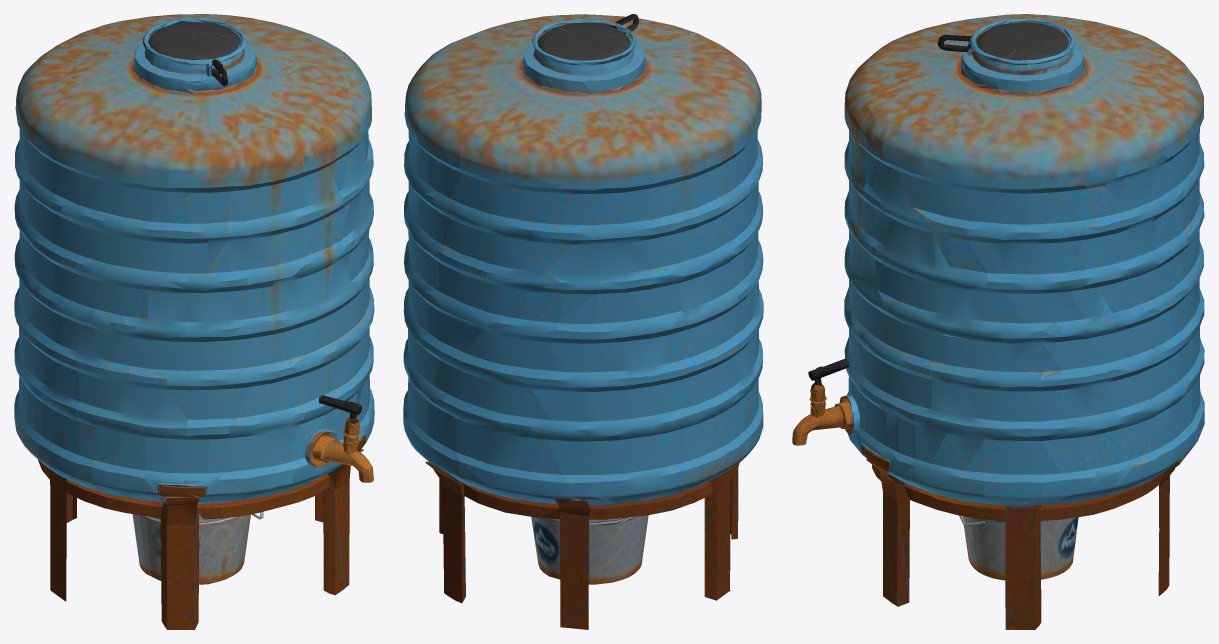
File: deco_citerne.glb
The picture shows the model from 3 angles, left to right: view 1: azimuth 30°, elevation 25°; view 2: azimuth 150°, elevation 25°; view 3: azimuth 270°, elevation 25°; orthographic projection.
Size of the model in its own units: 1.19 by 1.9 by 1.36.
Materials: 1 (1 with a texture image).
